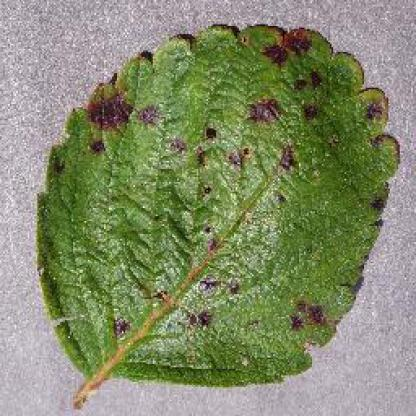leaf scorch: (29, 18, 402, 401)
